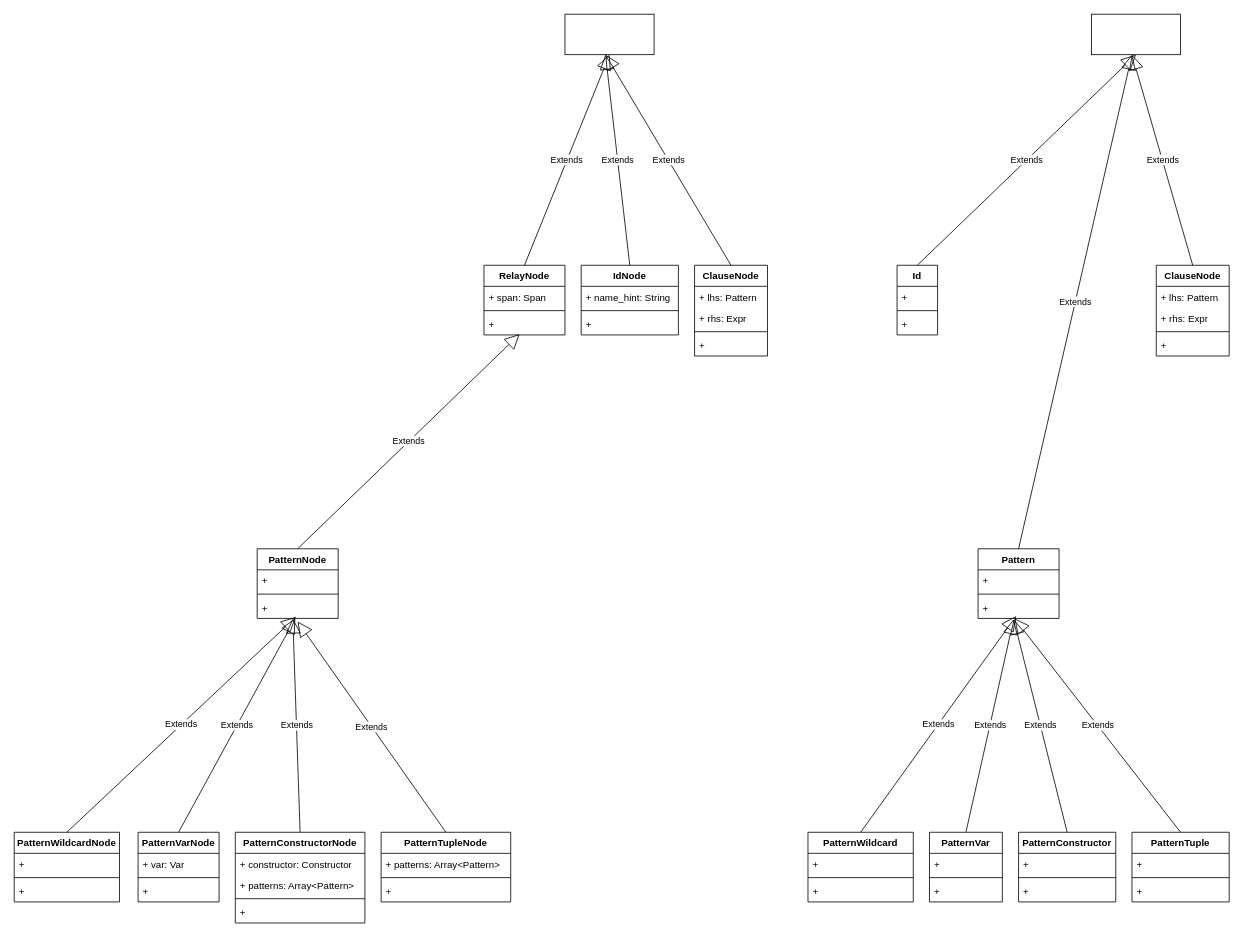
The diagram is 1243 pixels wide and 940 high, and some of its shapes have lost their labels. Here are the shapes that lost their labels. From the top down, the centre of each, then its label:
At pixel 609 34: "Object".
At pixel 1136 34: "ObjectRef".
